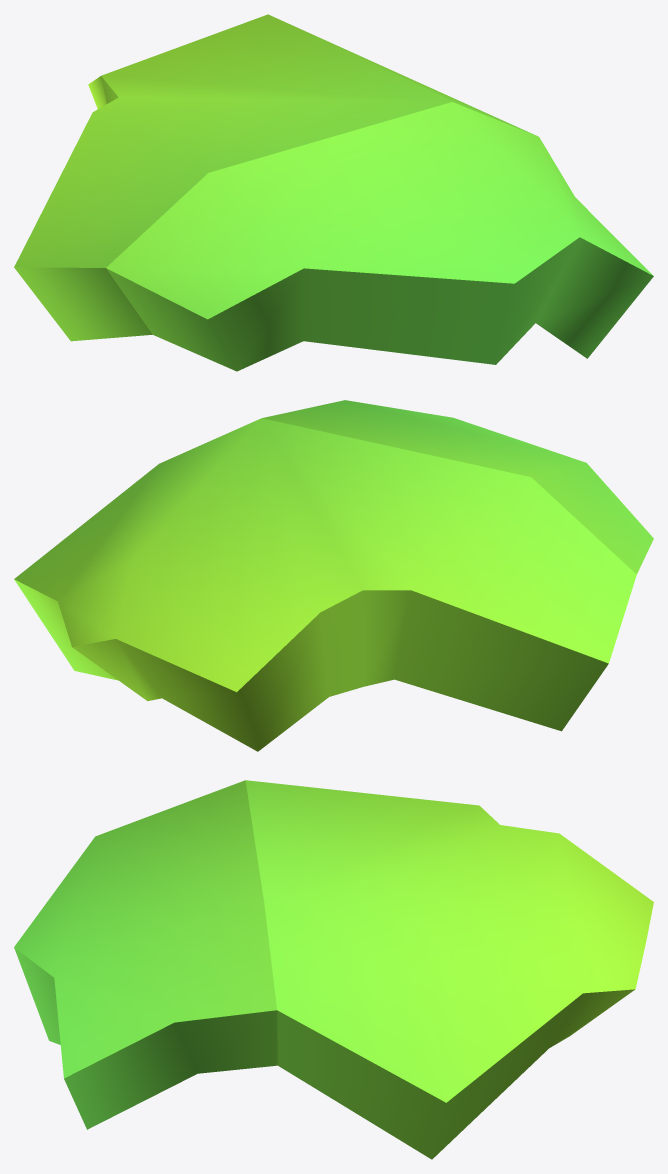
The model's file is Egg_Particle_Green_003.fbx.
The picture shows the model from 3 angles, top to bottom: view 1: azimuth 30°, elevation 25°; view 2: azimuth 150°, elevation 25°; view 3: azimuth 270°, elevation 25°; orthographic projection. The views are drawn at different scales.
Visible parts, largest first — view 1: Egg_Particle_Green_003; view 2: Egg_Particle_Green_003; view 3: Egg_Particle_Green_003.
Part boxes in pixels (bbox=[...]): Egg_Particle_Green_003: bbox=[14, 14, 653, 371]; Egg_Particle_Green_003: bbox=[14, 400, 653, 751]; Egg_Particle_Green_003: bbox=[14, 780, 653, 1159].
Size of the model in its own units: 1.52 by 0.5616 by 1.55.
